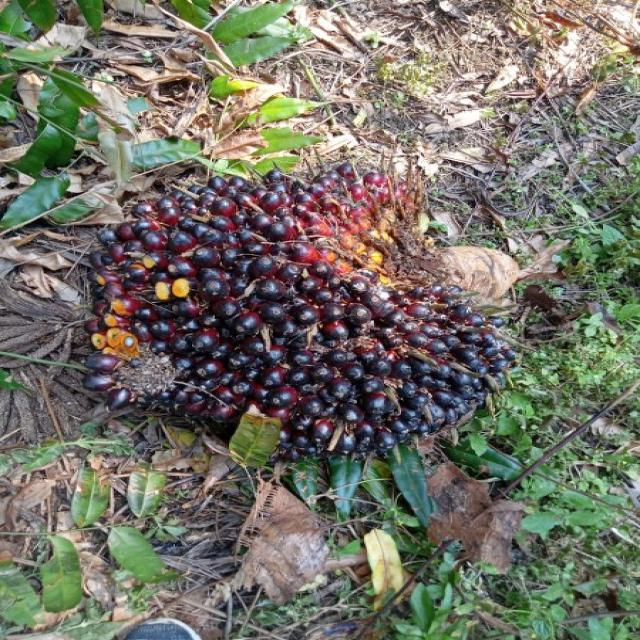fraksi 00: (84, 172, 510, 463)
